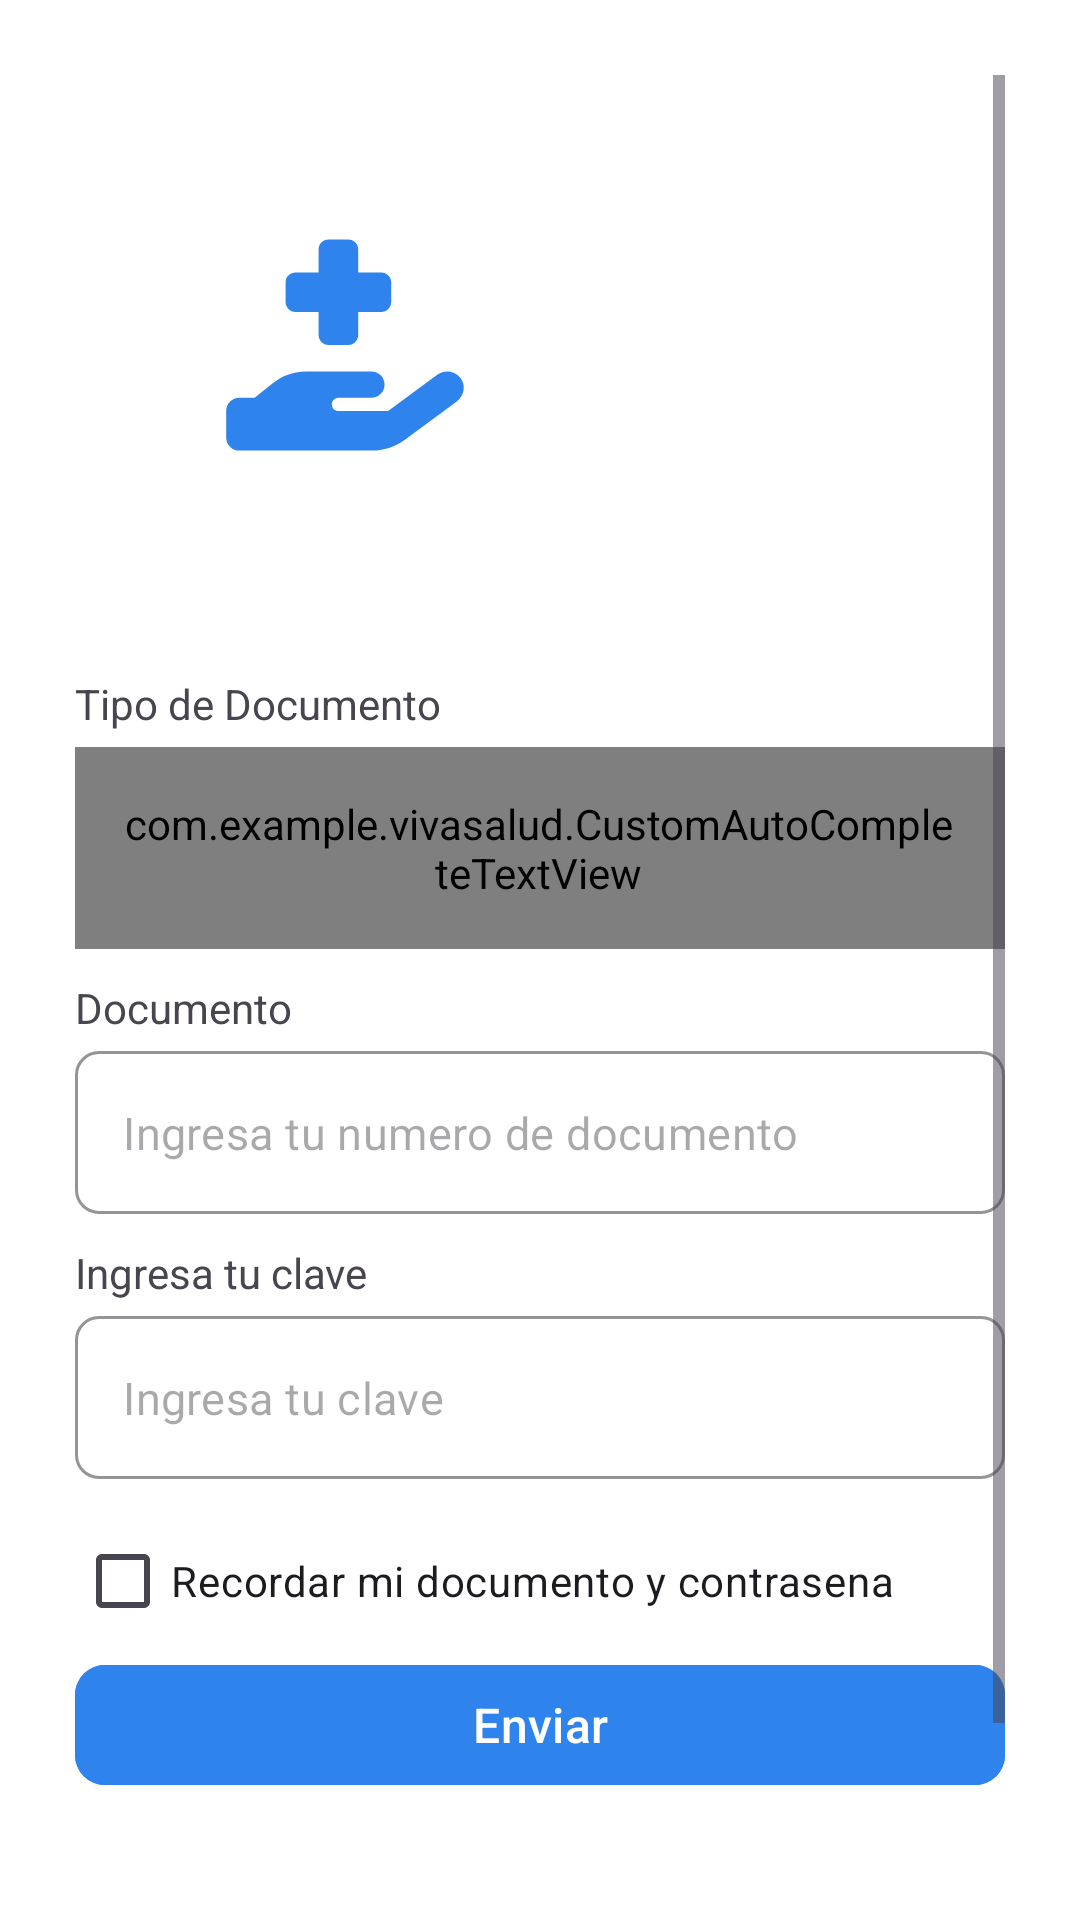

Named icons in this screenshot (1080x1920) and their bounding boxes, (x1, y1, x2, y2):
Icono Viva Salud: (226, 239, 464, 451)
